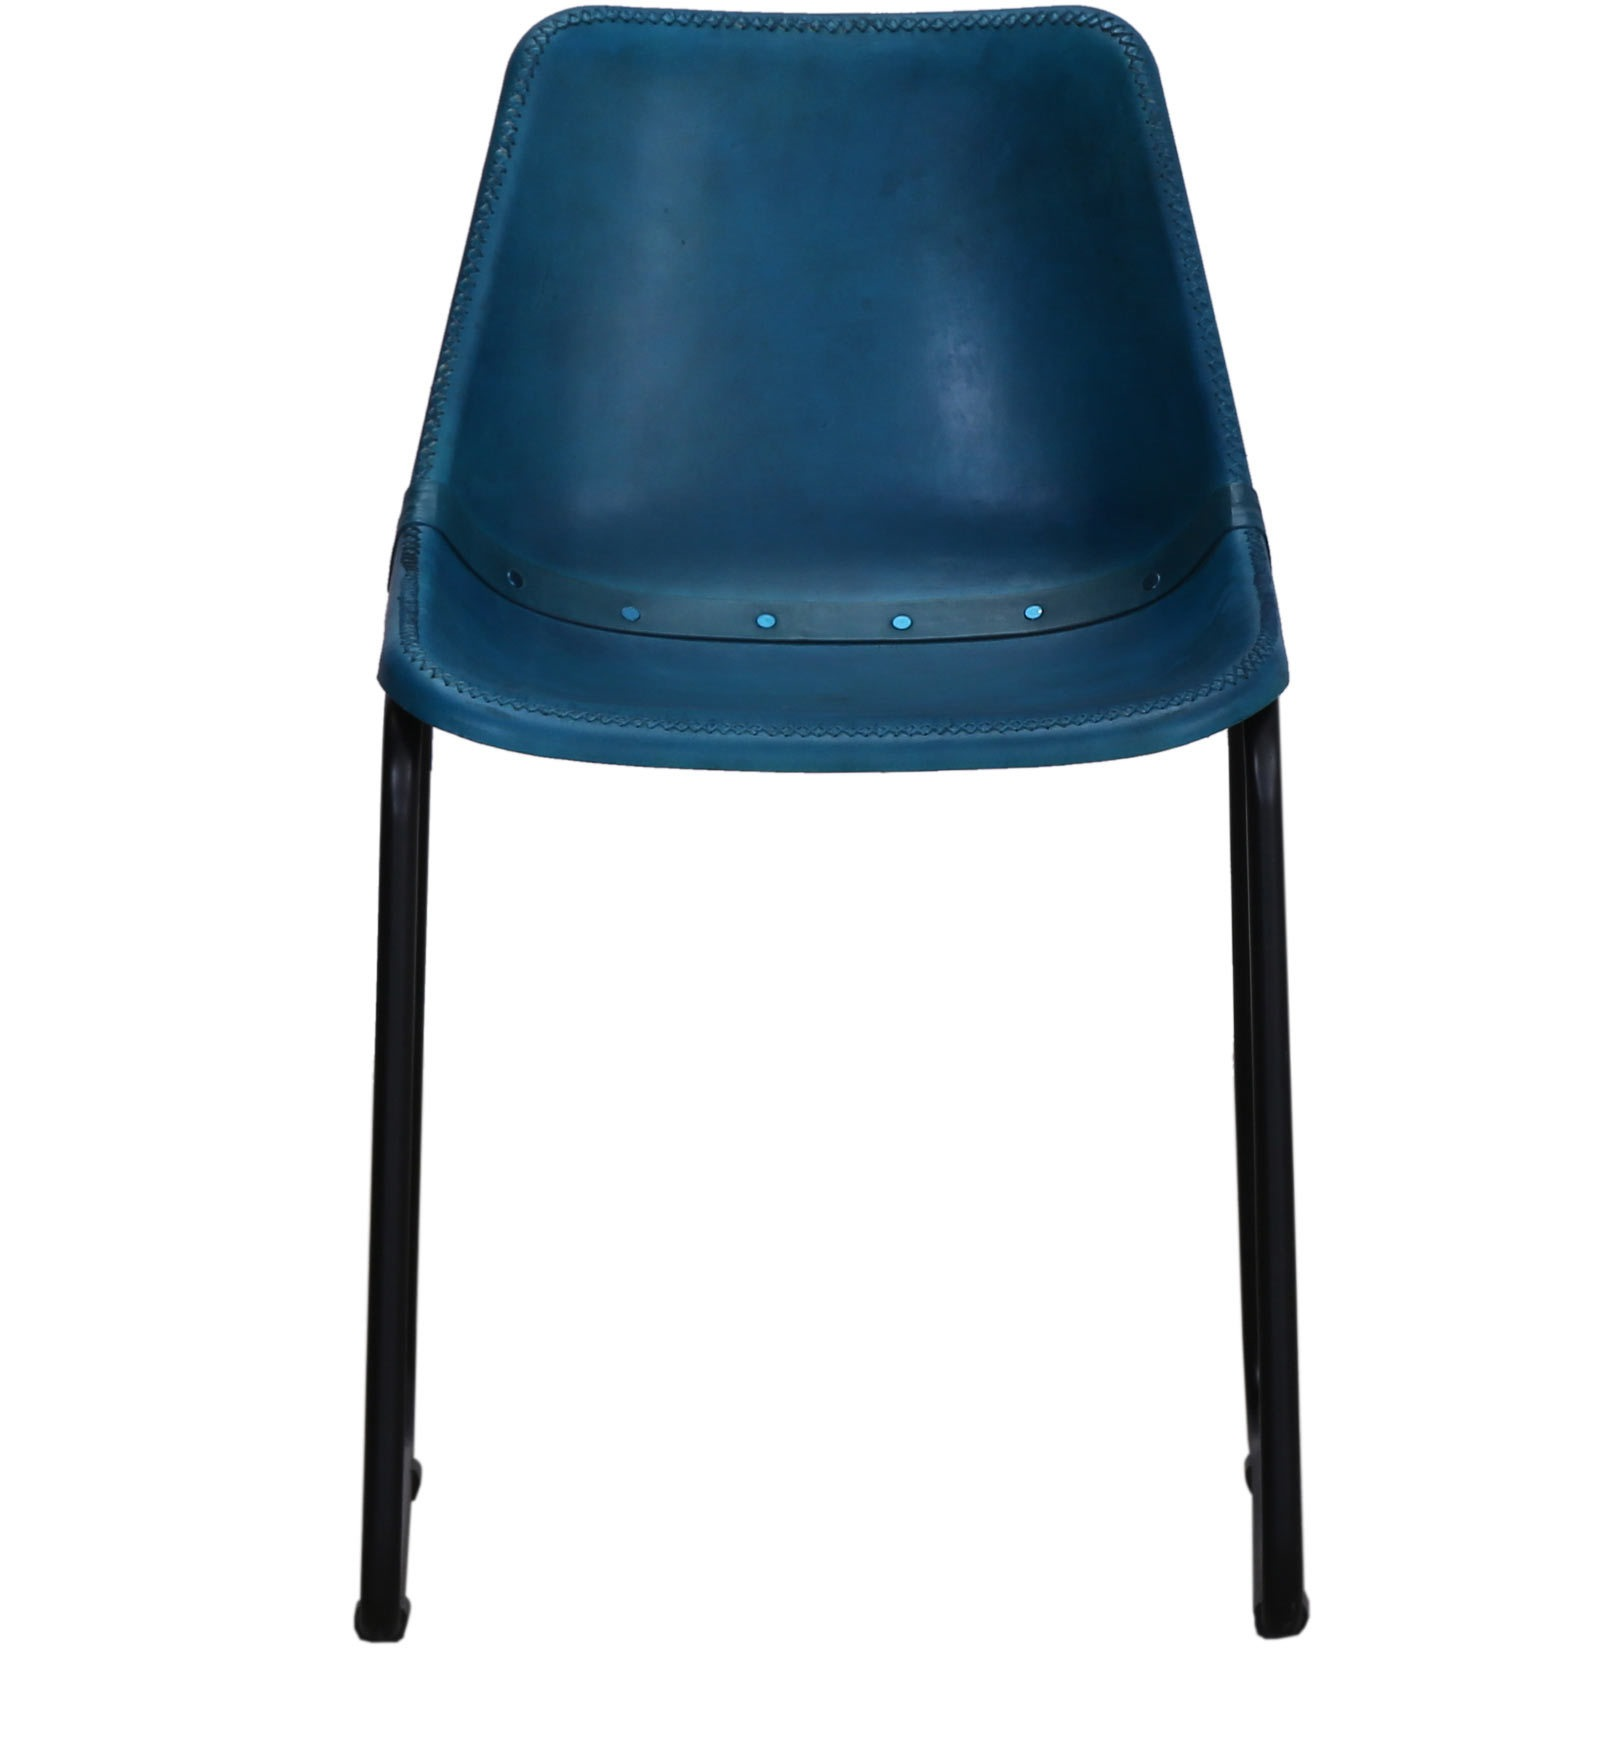Medina Ink Blue Color Leather Accent Chair by Bohemiana: (337, 8, 1326, 1640)
